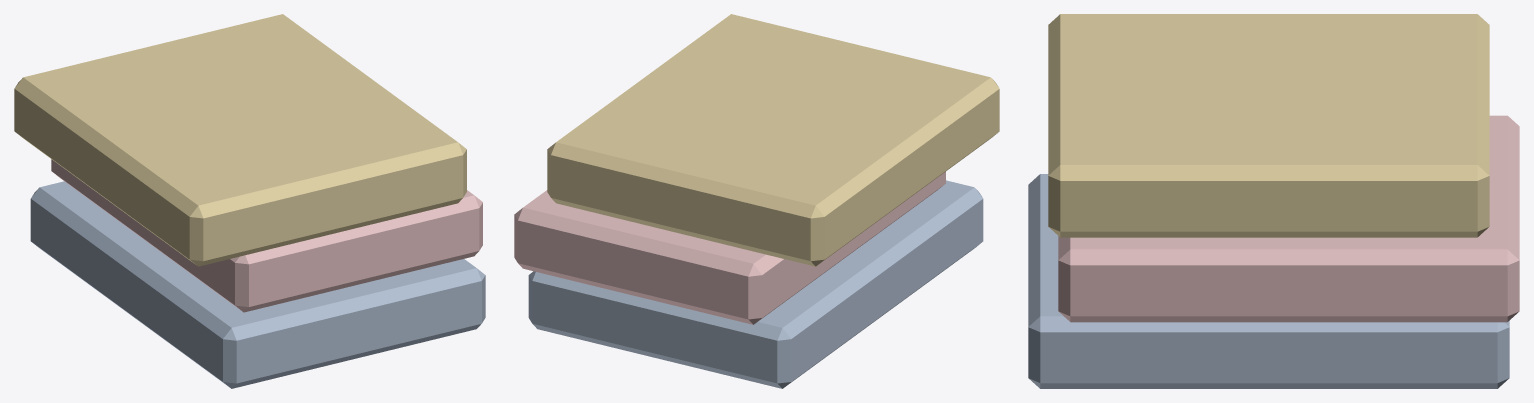
The model's file is SM_Book_Stack.fbx.
The picture shows the model from 3 angles, left to right: view 1: azimuth 30°, elevation 25°; view 2: azimuth 150°, elevation 25°; view 3: azimuth 270°, elevation 25°; orthographic projection. The views are drawn at different scales.
Parts seen in each view (by area): view 1: Book_Stack; view 2: Book_Stack; view 3: Book_Stack.
Boxes of the visible parts, box(x1,y1,x2,y2) form: Book_Stack: box(14, 14, 485, 388); Book_Stack: box(514, 14, 999, 388); Book_Stack: box(1028, 14, 1519, 388).
Size of the model in its own units: 20.4 by 12 by 24.5.
